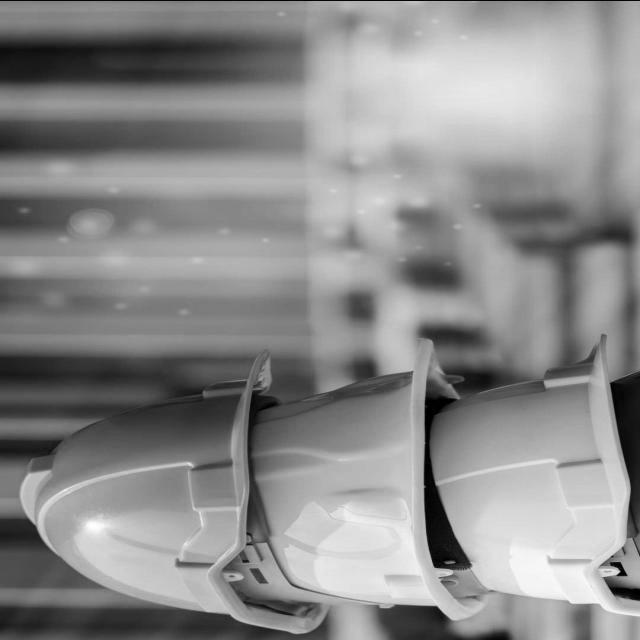construction helmet: (20, 351, 332, 633), (257, 340, 476, 611), (433, 337, 640, 617)
